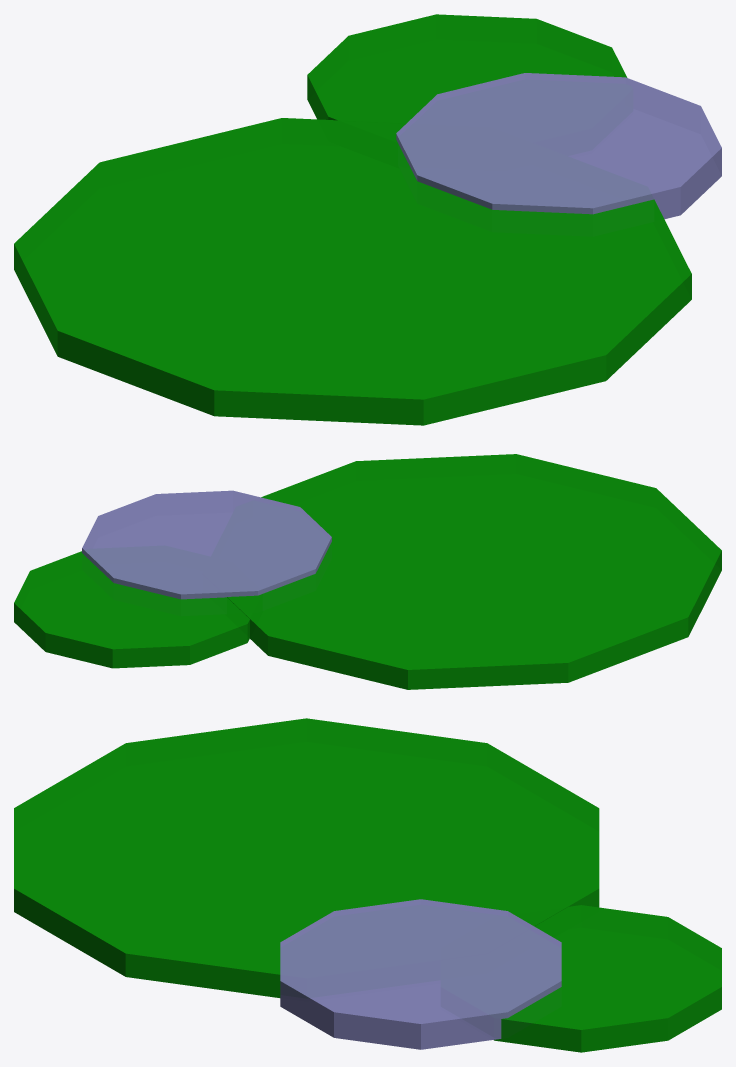
File: Mess7.fbx
3 views of the same model, one above another, from view 1: azimuth 30°, elevation 25°; view 2: azimuth 150°, elevation 25°; view 3: azimuth 270°, elevation 25° (orthographic). The views are drawn at different scales.
Visible parts, largest first — view 1: group1_pasted__pCylinder1; view 2: group1_pasted__pCylinder1; view 3: group1_pasted__pCylinder1.
Boxes of the visible parts, x1,y1,x2,y2 form: group1_pasted__pCylinder1: (14,14,721,425); group1_pasted__pCylinder1: (14,454,721,689); group1_pasted__pCylinder1: (14,718,721,1052).
Bounding box in the file's own units: 26.12 × 1.13 × 25.11.
